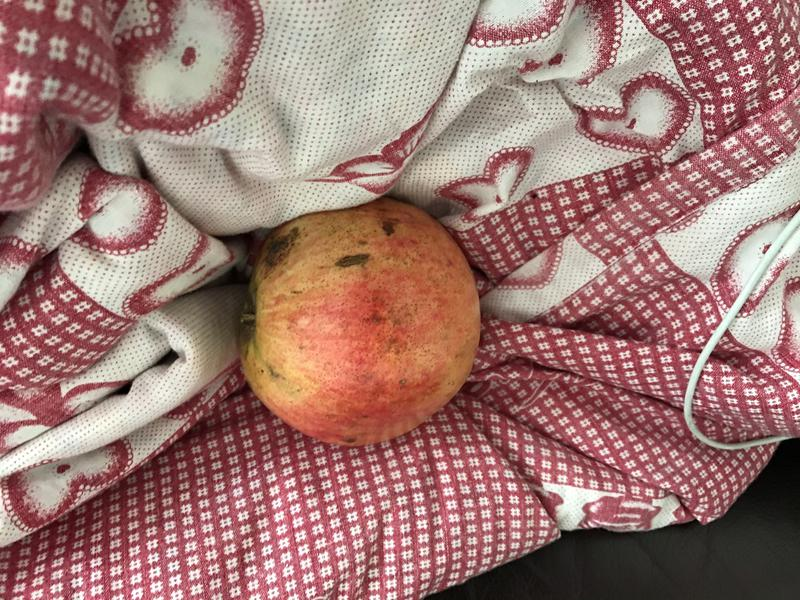pomegranate: (228, 191, 494, 452)
